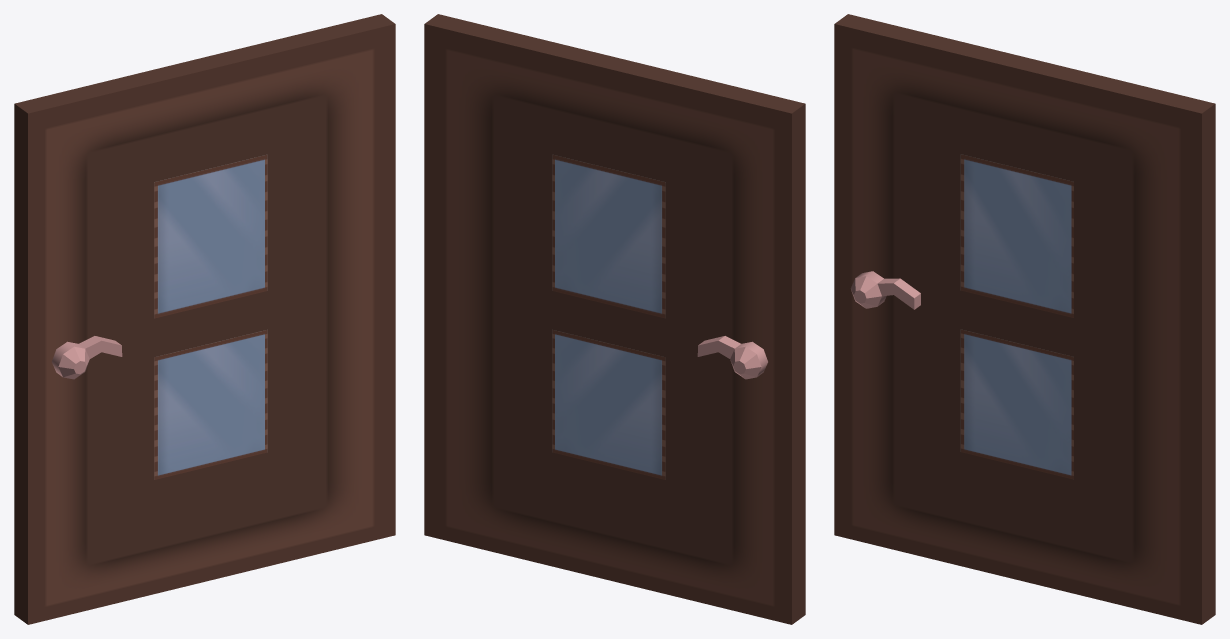
The model's file is Door3.fbx.
3 views of the same model, side by side, from view 1: azimuth 30°, elevation 25°; view 2: azimuth 150°, elevation 25°; view 3: azimuth 330°, elevation 25° (orthographic).
Parts seen in each view (by area): view 1: Door3; view 2: Door3; view 3: Door3.
Part boxes in pixels (x1,y1,x2,y2): Door3: [14, 14, 395, 624]; Door3: [424, 14, 805, 624]; Door3: [834, 14, 1215, 624].
Bounding box in the file's own units: 151 × 201 × 28.61.
